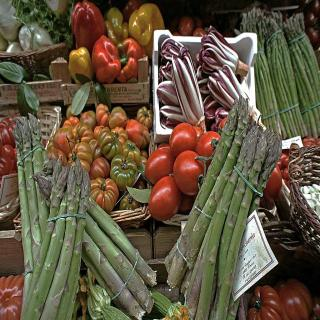tomato: (149, 176, 180, 221), (176, 152, 206, 191), (144, 149, 172, 186), (170, 122, 200, 154), (197, 131, 220, 165), (267, 166, 282, 194), (178, 195, 190, 211), (282, 167, 288, 179), (282, 156, 290, 163)
